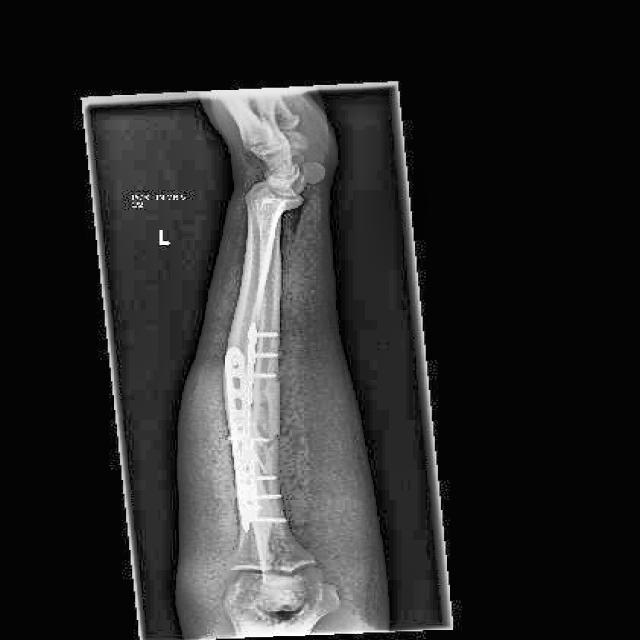forearm fracture: (254, 379, 296, 468)
